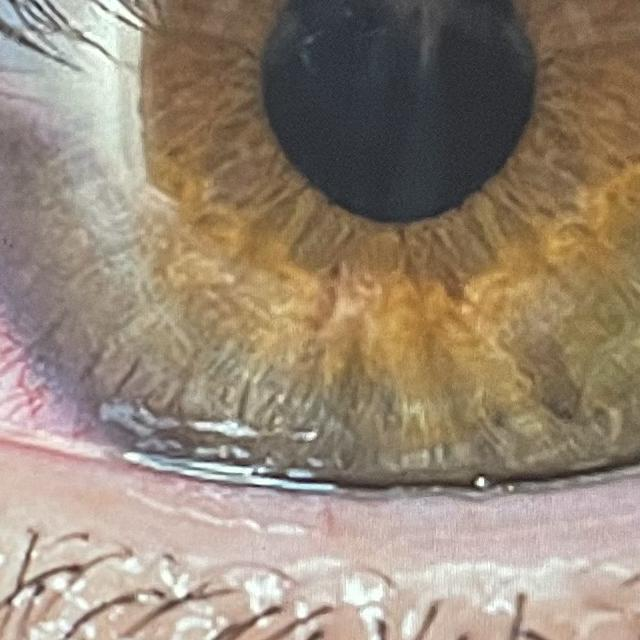eye: (0, 0, 640, 499)
iris: (0, 0, 640, 483)
